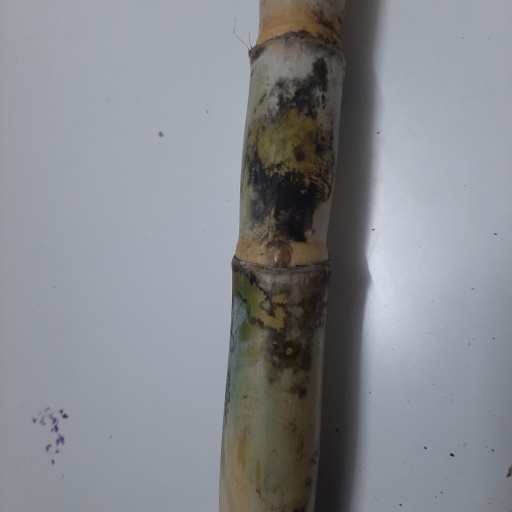Bud: (270, 244, 290, 270)
